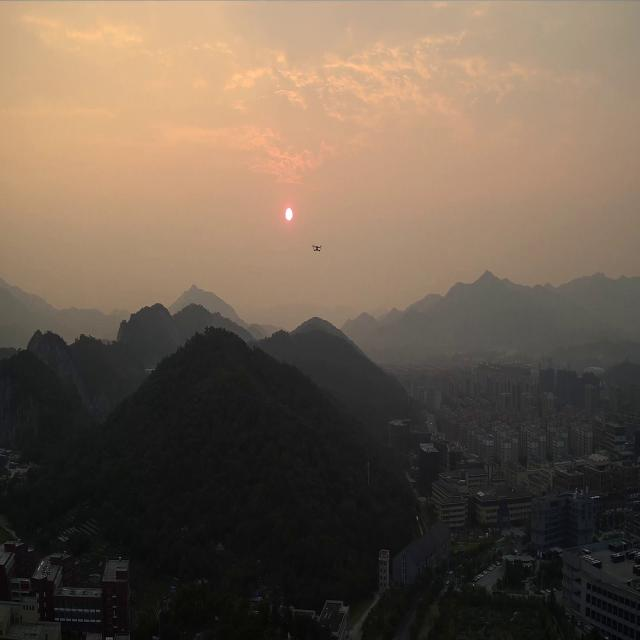UAV: (311, 243, 323, 252)
